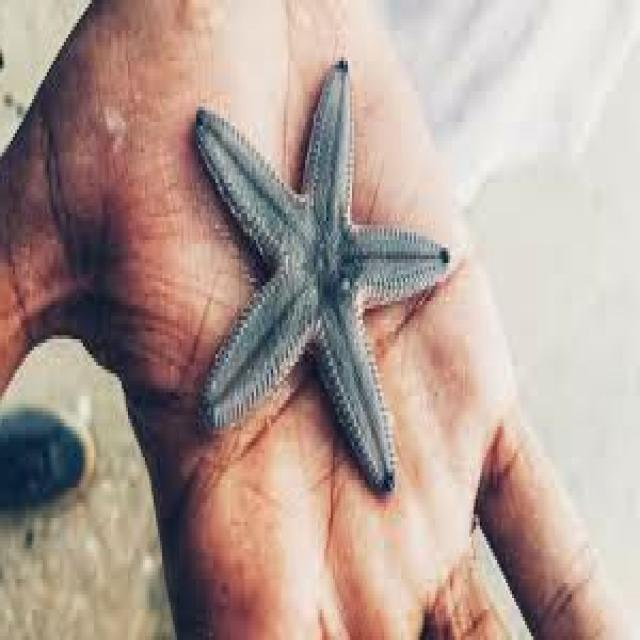starfish: (198, 61, 452, 488)
